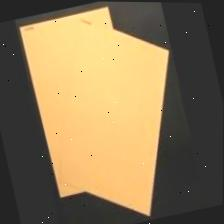cardboard: (15, 0, 200, 224)
